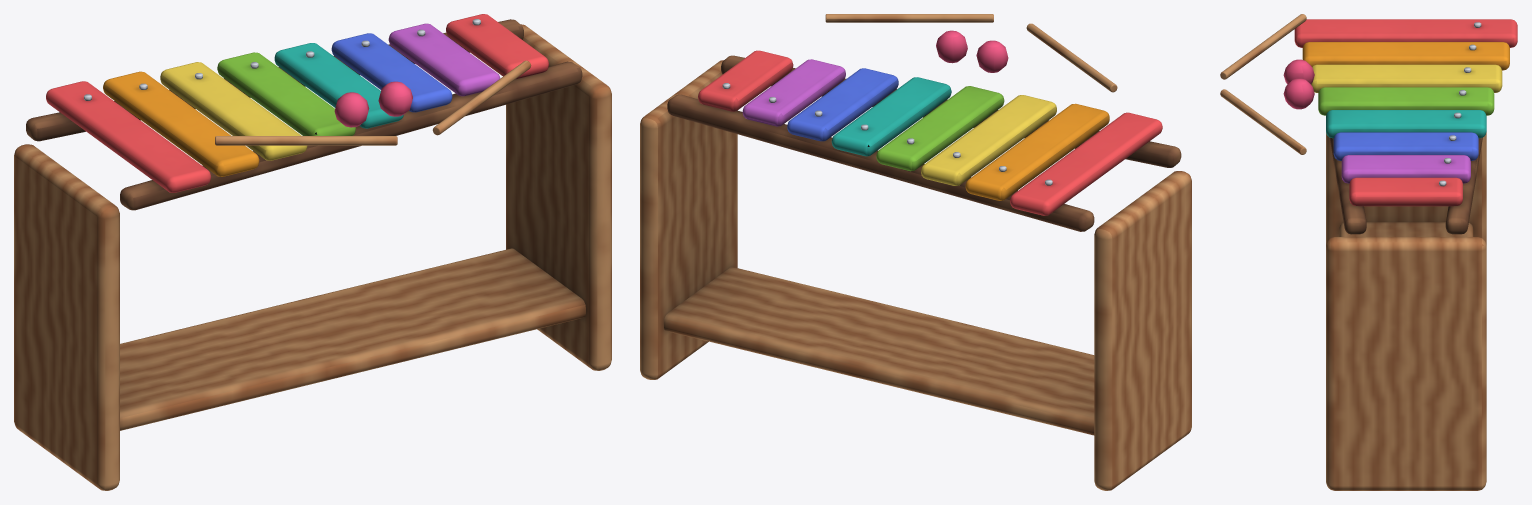
Rendered from Xylophone.fbx.
3 renders of one model, left to right at view 1: azimuth 30°, elevation 25°; view 2: azimuth 150°, elevation 25°; view 3: azimuth 270°, elevation 25°, orthographic. The views are drawn at different scales.
Parts seen in each view (by area): view 1: Xylophone_Body, Pad_72_Mesh, Pad_74_Mesh, Pad_76_Mesh, Pad_77_Mesh, Pad_81_Mesh, Pad_83_Mesh, Pad_79_Mesh, Pad_84_Mesh; view 2: Xylophone_Body, Pad_72_Mesh, Pad_74_Mesh, Pad_76_Mesh, Pad_77_Mesh, Pad_79_Mesh, Pad_81_Mesh, Pad_83_Mesh, Pad_84_Mesh; view 3: Xylophone_Body, Pad_72_Mesh, Pad_74_Mesh, Pad_76_Mesh, Pad_77_Mesh, Pad_79_Mesh, Pad_81_Mesh, Pad_84_Mesh, Pad_83_Mesh.
Boxes of the visible parts, x1,y1,x2,y2 form: Xylophone_Body: (14,19,611,490); Pad_72_Mesh: (46,81,210,192); Pad_74_Mesh: (103,71,259,176); Pad_76_Mesh: (160,62,307,160); Pad_77_Mesh: (217,52,355,135); Pad_81_Mesh: (331,33,452,112); Pad_83_Mesh: (388,23,500,96); Pad_79_Mesh: (274,43,403,128); Pad_84_Mesh: (446,14,548,79); Xylophone_Body: (640,14,1191,490); Pad_72_Mesh: (1010,112,1162,215); Pad_74_Mesh: (965,103,1109,200); Pad_76_Mesh: (921,95,1056,185); Pad_77_Mesh: (876,86,1004,171); Pad_79_Mesh: (831,77,951,156); Pad_81_Mesh: (787,68,898,141); Pad_83_Mesh: (742,59,845,126); Pad_84_Mesh: (698,50,793,111); Xylophone_Body: (1220,14,1486,490); Pad_72_Mesh: (1294,19,1517,47); Pad_74_Mesh: (1302,42,1509,70); Pad_76_Mesh: (1311,64,1502,92); Pad_77_Mesh: (1318,87,1494,115); Pad_79_Mesh: (1326,110,1486,138); Pad_81_Mesh: (1333,132,1478,160); Pad_84_Mesh: (1349,177,1462,206); Pad_83_Mesh: (1341,155,1470,183).
Size of the model in its own units: 1.17 by 0.775 by 0.6671.
